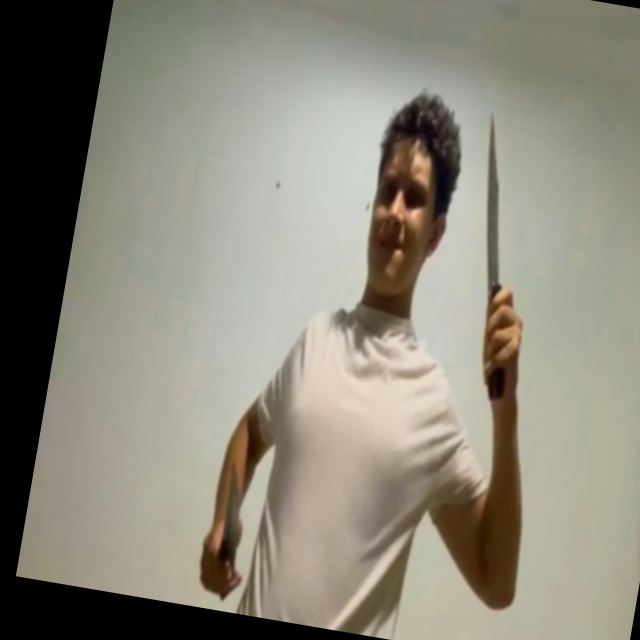Sharp-Object: (461, 113, 527, 292), (214, 459, 252, 570)
